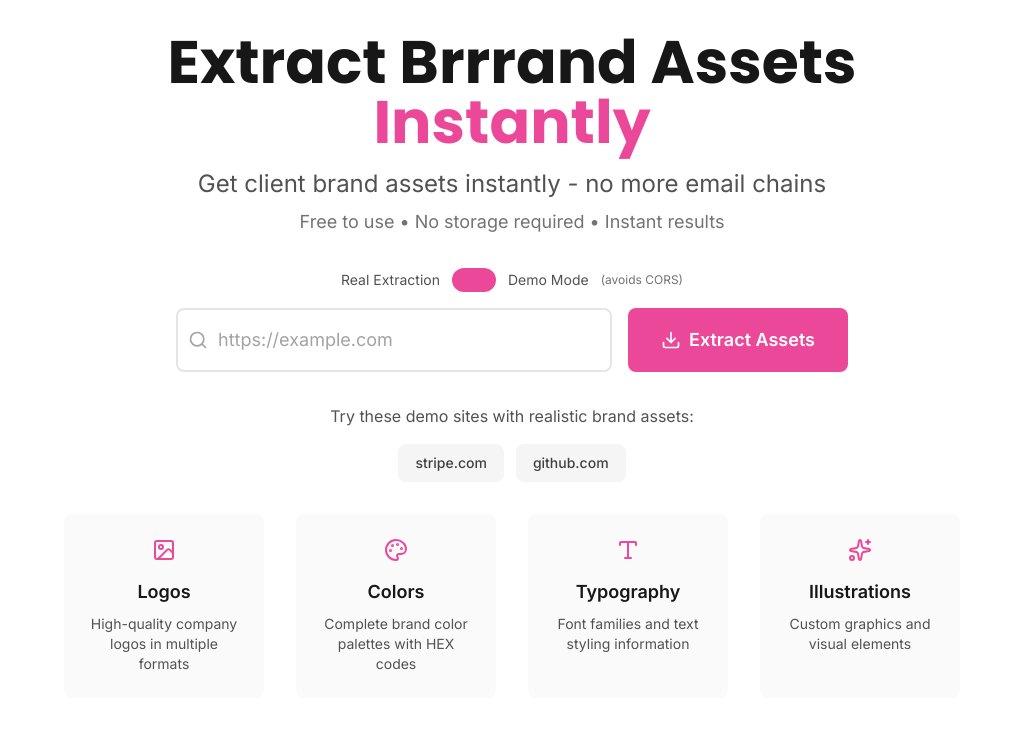
Test case: LandingPage › should clear validation error when user starts typing
# Enter invalid URL and submit
In the field named "website url": coordinates (394, 340) top-left (176, 308), bottom-right (612, 372), type "invalid"
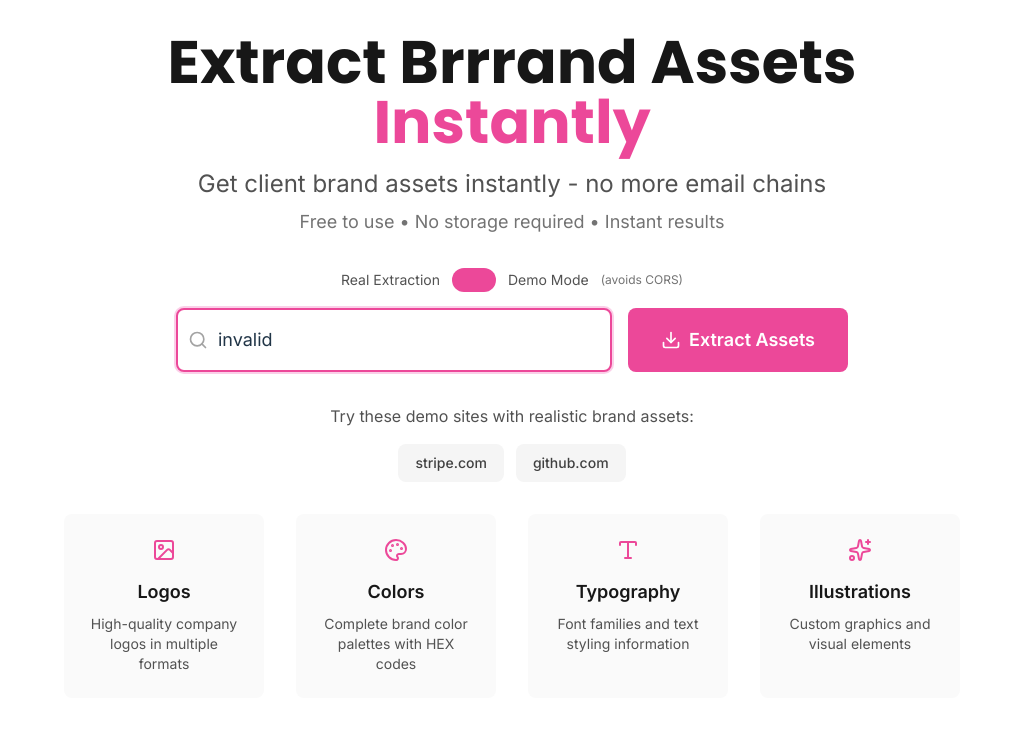
Click the button "Extract Assets": coordinates (738, 340) top-left (628, 308), bottom-right (848, 372)
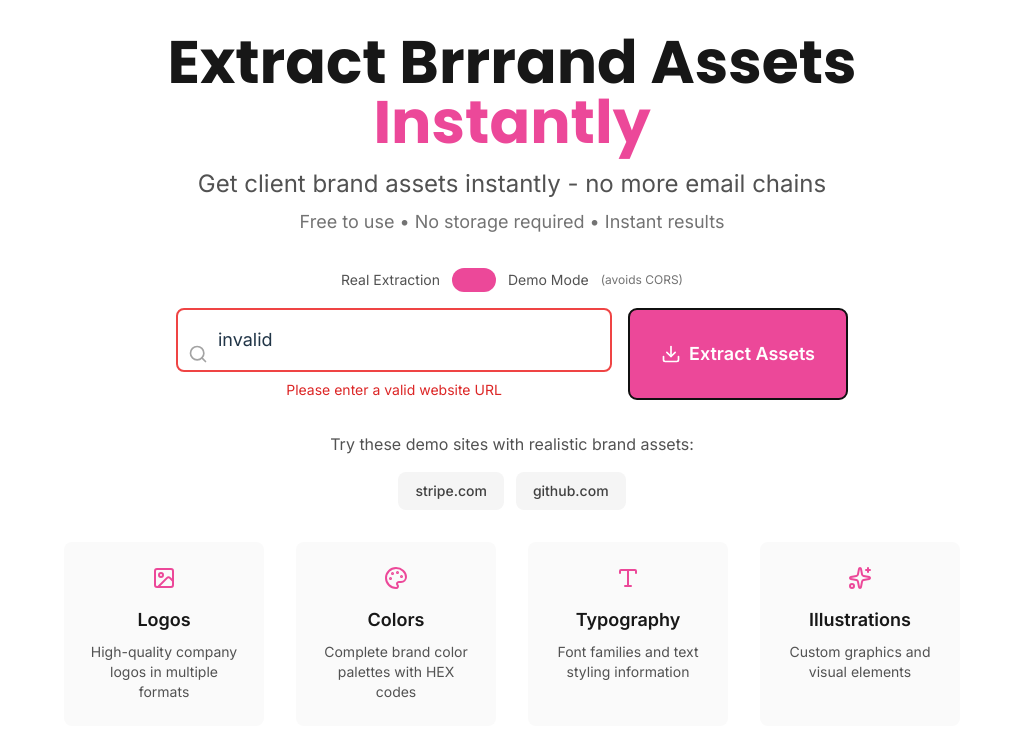
Expected: the message "Please enter a valid website URL" is shown, top-left (286, 381), bottom-right (502, 398)
# Start typing again
In the field named "website url": coordinates (394, 340) top-left (176, 308), bottom-right (612, 372), type "x"
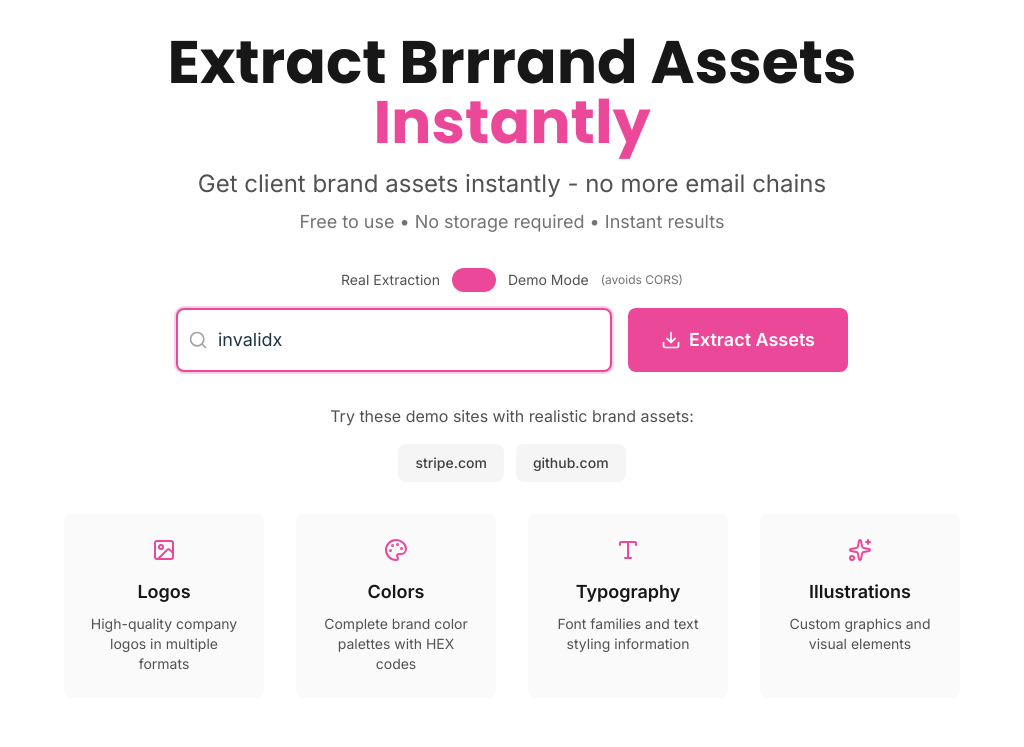
Expected: the message "Please enter a valid website URL" is gone
